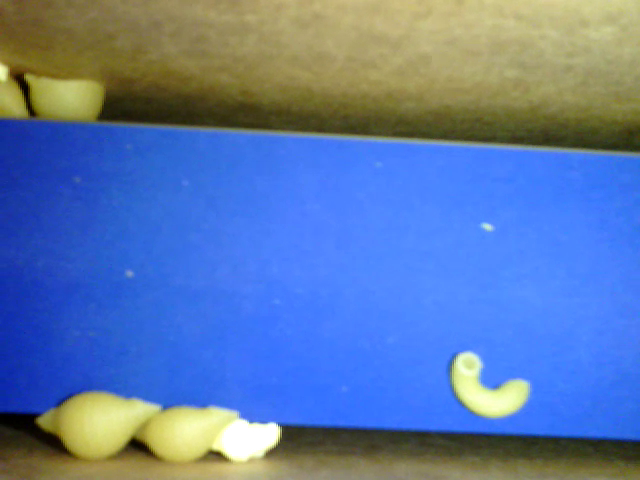elbow: (450, 349, 532, 419)
shell: (33, 393, 168, 461), (133, 396, 240, 464), (24, 71, 108, 123)
